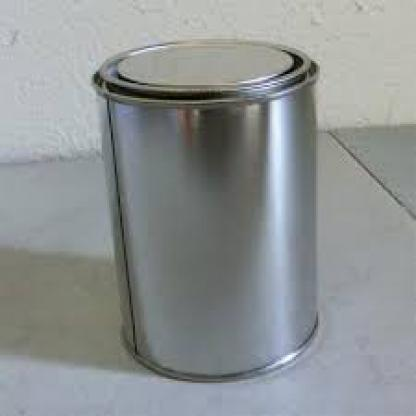METAL: (91, 37, 318, 381)
